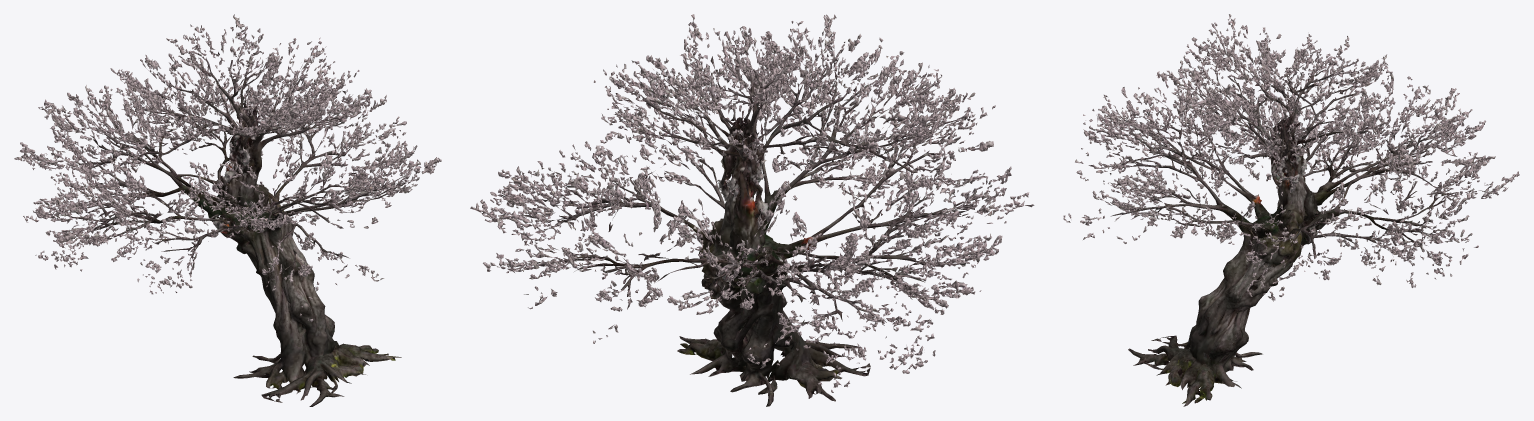
The model's file is sakura_c.0.glb.
The picture shows the model from 3 angles, left to right: view 1: azimuth 30°, elevation 25°; view 2: azimuth 150°, elevation 25°; view 3: azimuth 270°, elevation 25°; orthographic projection. The views are drawn at different scales.
Visible parts, largest first — view 1: geometry_0; view 2: geometry_0; view 3: geometry_0.
Boxes of the visible parts, bbox=[...] form: geometry_0: bbox=[14, 14, 441, 406]; geometry_0: bbox=[470, 14, 1034, 406]; geometry_0: bbox=[1063, 14, 1519, 406].
Size of the model in its own units: 0.9286 by 0.7418 by 0.9835.
Materials: 1 (1 with a texture image).
